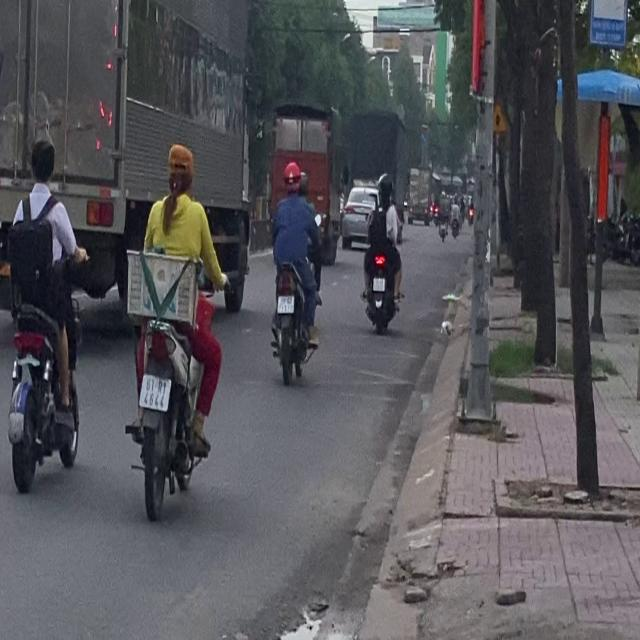helmet: (282, 160, 301, 194)
licenseplate: (121, 138, 225, 522), (0, 130, 87, 494), (267, 158, 323, 384)
motorcyclist: (164, 142, 194, 195), (27, 137, 54, 187)
nohelmet: (139, 374, 170, 410), (277, 296, 293, 314)
